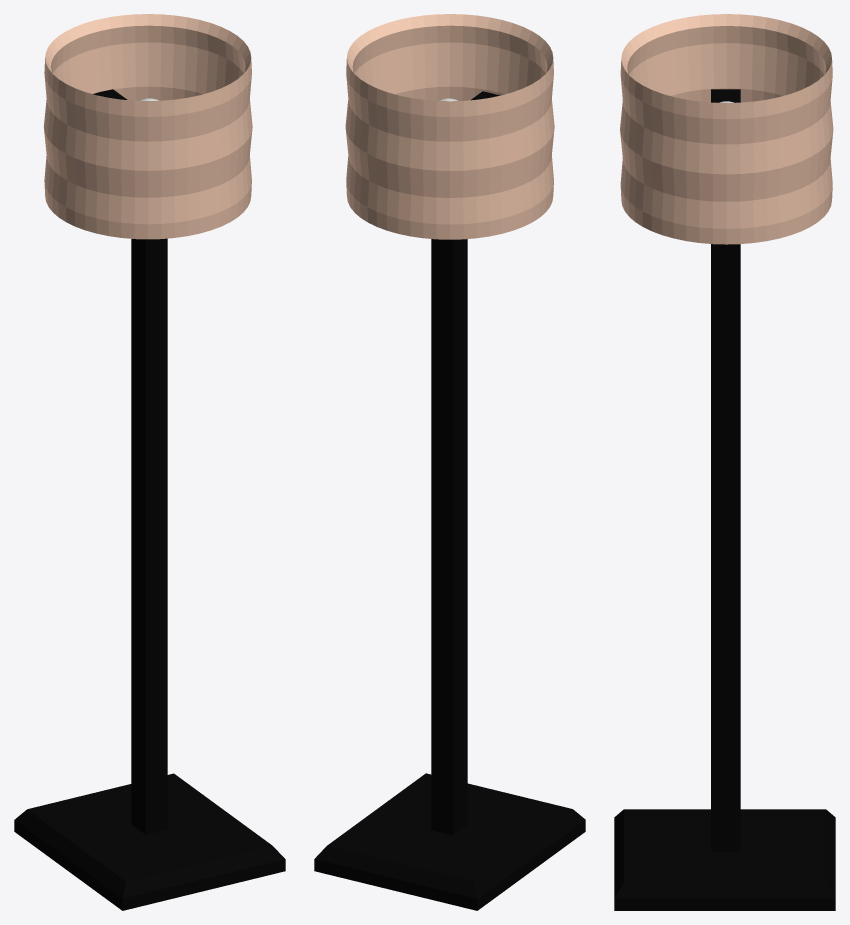
The model's file is Test lamp.fbx.
3 views of the same model, side by side, from view 1: azimuth 30°, elevation 25°; view 2: azimuth 150°, elevation 25°; view 3: azimuth 270°, elevation 25° (orthographic). The views are drawn at different scales.
Parts seen in each view (by area): view 1: Cylinder; view 2: Cylinder; view 3: Cylinder.
Part boxes in pixels (box(x1,y1,x2,y2)): Cylinder: box(14, 14, 285, 910); Cylinder: box(314, 14, 585, 910); Cylinder: box(614, 14, 835, 910).
Bounding box in the file's own units: 157 × 657 × 162.
